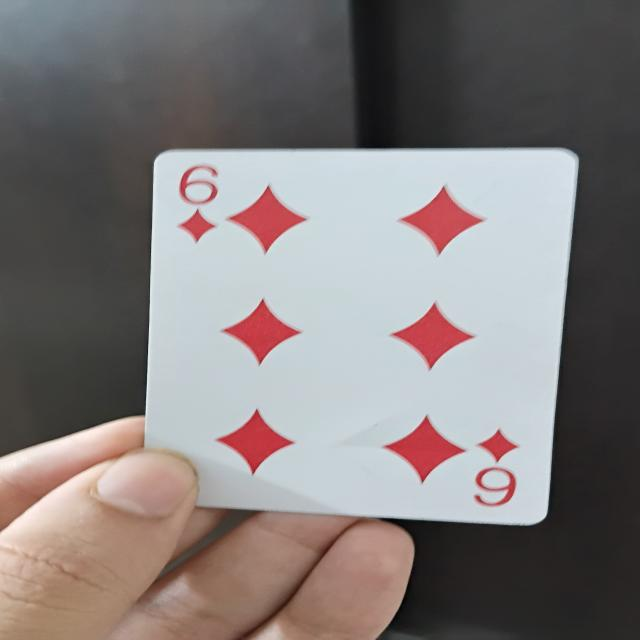6D: (150, 150, 572, 520)
